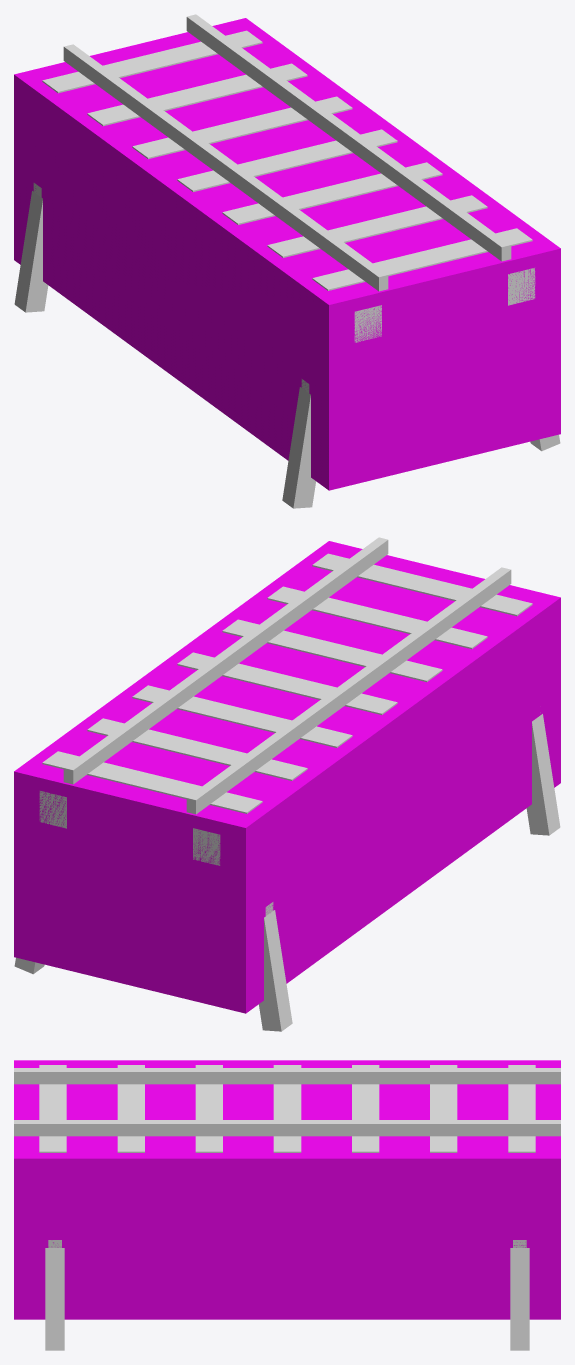
Rendered from rail_trestle.glb.
3 views of the same model, one above another, from view 1: azimuth 30°, elevation 25°; view 2: azimuth 150°, elevation 25°; view 3: azimuth 270°, elevation 25° (orthographic). The views are drawn at different scales.
Parts seen in each view (by area): view 1: rail_trestle_hull, rail_trestle; view 2: rail_trestle_hull, rail_trestle; view 3: rail_trestle_hull, rail_trestle.
Part boxes in pixels (<box>): rail_trestle_hull: <box>14,18,560,490</box>; rail_trestle: <box>14,14,560,508</box>; rail_trestle_hull: <box>14,541,560,1013</box>; rail_trestle: <box>14,537,560,1031</box>; rail_trestle_hull: <box>14,1060,560,1319</box>; rail_trestle: <box>14,1065,560,1350</box>.
Bounding box in the file's own units: 1.96 × 1.62 × 4.
